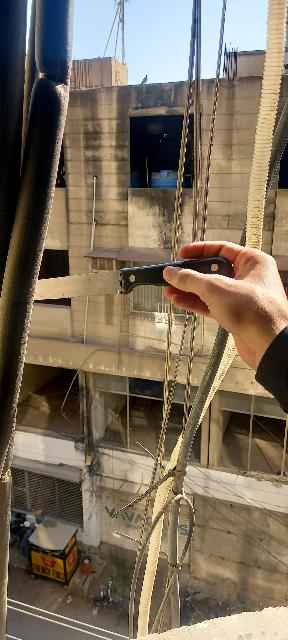long knife: (29, 252, 233, 316)
